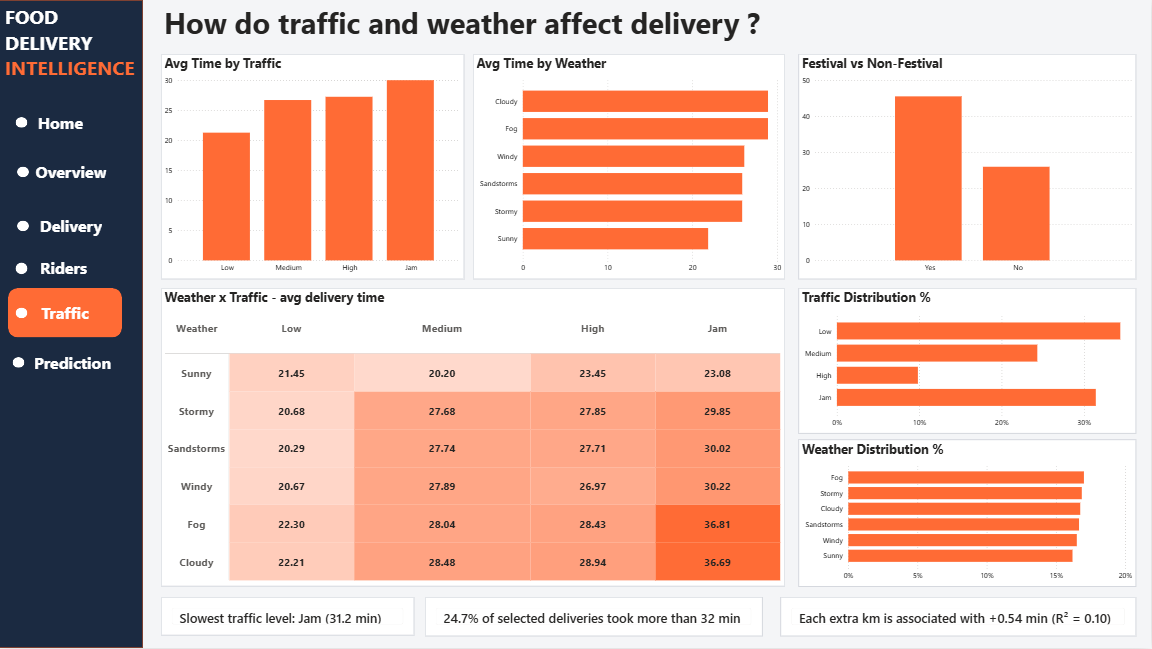

The page's visual inventory and layout, read from the dashboard file:
{"tool":"powerbi","page":{"name":"Traffic","canvas":[1920,1080],"ordinal":4},"visuals":[{"type":"group","id":"g1","title":"Group 4","box":[0,0,241.2,1080],"z":0},{"type":"group","id":"g2","title":"Group 3","box":[0,0,241.2,1080],"z":0,"group":"g1"},{"type":"shape","box":[0,0,240,1080],"z":0,"group":"g3"},{"type":"shape","box":[8,162.5,190,82.5],"z":0,"group":"g5"},{"type":"shape","box":[25,245,190,82.5],"z":0,"group":"g4"},{"type":"shape","box":[25,335,190,82.5],"z":0,"group":"g6"},{"type":"shape","box":[13,401,190,90],"z":0,"group":"g7"},{"type":"shape","box":[15,480,190,82.5],"z":0,"group":"g8"},{"type":"shape","box":[26.4,562.5,190,82.5],"z":0,"group":"g9"},{"type":"textbox","box":[3.8,0,237.5,142.5],"z":1000,"group":"g3"},{"type":"textbox","box":[270,0,1040,105],"z":1000},{"type":"shape","box":[29.1,195.4,20,18],"z":1000,"group":"g5"},{"type":"shape","box":[29.1,277.9,20,18],"z":1000,"group":"g4"},{"type":"shape","box":[29.1,367.9,20,18],"z":1000,"group":"g6"},{"type":"shape","box":[29.1,438.4,20,19.7],"z":1000,"group":"g7"},{"type":"shape","box":[28,512.9,20,18],"z":1000,"group":"g8"},{"type":"shape","box":[22.5,595.4,20,18],"z":1000,"group":"g9"},{"type":"columnChart","title":"Avg Time by Traffic","fields":{"Y":["_Measures (2).Avg Delivery Time"],"Category":["Fact Delivery.Traffic"]},"box":[270,90,505,375],"z":2000},{"type":"barChart","title":"Avg Time by Weather","fields":{"Category":["Fact Delivery.Weather"],"Y":["_Measures (2).Avg Delivery Time"]},"box":[790,90,520,375],"z":3000},{"type":"columnChart","title":"Festival vs Non-Festival","fields":{"Category":["Fact Delivery.Festival"],"Y":["_Measures (2).Avg Delivery Time"]},"box":[1332.5,90,562.5,375],"z":4000},{"type":"pivotTable","title":"Weather x Traffic - avg delivery time","fields":{"Rows":["Fact Delivery.Weather"],"Columns":["Fact Delivery.Traffic"],"Values":["_Measures (2).Avg Delivery Time"]},"box":[270,480,1040,497.5],"z":5000},{"type":"group","id":"g3","title":"Group 1","box":[0,0,241.2,1080],"z":6000,"group":"g2"},{"type":"clusteredBarChart","title":"Traffic Distribution % ","fields":{"Category":["Fact Delivery.Traffic"],"Y":["_Measures (2).Traffic Share %"]},"box":[1332.5,480,562.5,242.5],"z":6000},{"type":"clusteredBarChart","title":"Weather Distribution  % ","fields":{"Category":["Fact Delivery.Weather"],"Y":["_Measures (2).Weather Share %"]},"box":[1332.5,732.5,562.5,245],"z":7000},{"type":"cardVisual","fields":{"Data":["_Measures (2).Insight Traffic"]},"box":[270,996,422,64],"z":8000},{"type":"cardVisual","fields":{"Data":["_Measures (2).Insight Slow"]},"box":[710,994,562.5,65],"z":9000},{"type":"cardVisual","fields":{"Data":["_Measures (2).Insight Distance"]},"box":[1302.5,995,592.5,65],"z":10000},{"type":"group","id":"g4","title":"Group 2","box":[25,245,190,82.5],"z":13000,"group":"g2"},{"type":"group","id":"g5","title":"Group 2","box":[8,162.5,190,82.5],"z":14000,"group":"g2"},{"type":"group","id":"g6","title":"Group 2","box":[25,335,190,82.5],"z":15000,"group":"g2"},{"type":"group","id":"g7","title":"Group 2","box":[13,401,190,90],"z":17000,"group":"g2"},{"type":"group","id":"g8","title":"Group 2","box":[15,480,190,82.5],"z":18000,"group":"g1"},{"type":"group","id":"g9","title":"Group 2","box":[22.5,562.5,192.5,82.5],"z":18000,"group":"g2"}]}

Visuals, with their boxes on the page's 1920x1080 design canvas (x1, y1, x2, y2). These are canvas units, not pixel positions in the 1152x649 screenshot, which may show the page scaled, cropped or inside an application window:
"Group 4" group: Rect(0, 0, 241, 1080)
"Group 3" group: Rect(0, 0, 241, 1080)
shape: Rect(0, 0, 240, 1080)
shape: Rect(8, 162, 198, 245)
shape: Rect(25, 245, 215, 328)
shape: Rect(25, 335, 215, 418)
shape: Rect(13, 401, 203, 491)
shape: Rect(15, 480, 205, 562)
shape: Rect(26, 562, 216, 645)
textbox: Rect(4, 0, 241, 142)
textbox: Rect(270, 0, 1310, 105)
shape: Rect(29, 195, 49, 213)
shape: Rect(29, 278, 49, 296)
shape: Rect(29, 368, 49, 386)
shape: Rect(29, 438, 49, 458)
shape: Rect(28, 513, 48, 531)
shape: Rect(22, 595, 42, 613)
"Avg Time by Traffic" columnChart: Rect(270, 90, 775, 465)
"Avg Time by Weather" barChart: Rect(790, 90, 1310, 465)
"Festival vs Non-Festival" columnChart: Rect(1332, 90, 1895, 465)
"Weather x Traffic - avg delivery time" pivotTable: Rect(270, 480, 1310, 978)
"Group 1" group: Rect(0, 0, 241, 1080)
"Traffic Distribution % " clusteredBarChart: Rect(1332, 480, 1895, 722)
"Weather Distribution  % " clusteredBarChart: Rect(1332, 732, 1895, 978)
cardVisual - _Measures (2).Insight Traffic: Rect(270, 996, 692, 1060)
cardVisual - _Measures (2).Insight Slow: Rect(710, 994, 1272, 1059)
cardVisual - _Measures (2).Insight Distance: Rect(1302, 995, 1895, 1060)
"Group 2" group: Rect(25, 245, 215, 328)
"Group 2" group: Rect(8, 162, 198, 245)
"Group 2" group: Rect(25, 335, 215, 418)
"Group 2" group: Rect(13, 401, 203, 491)
"Group 2" group: Rect(15, 480, 205, 562)
"Group 2" group: Rect(22, 562, 215, 645)
